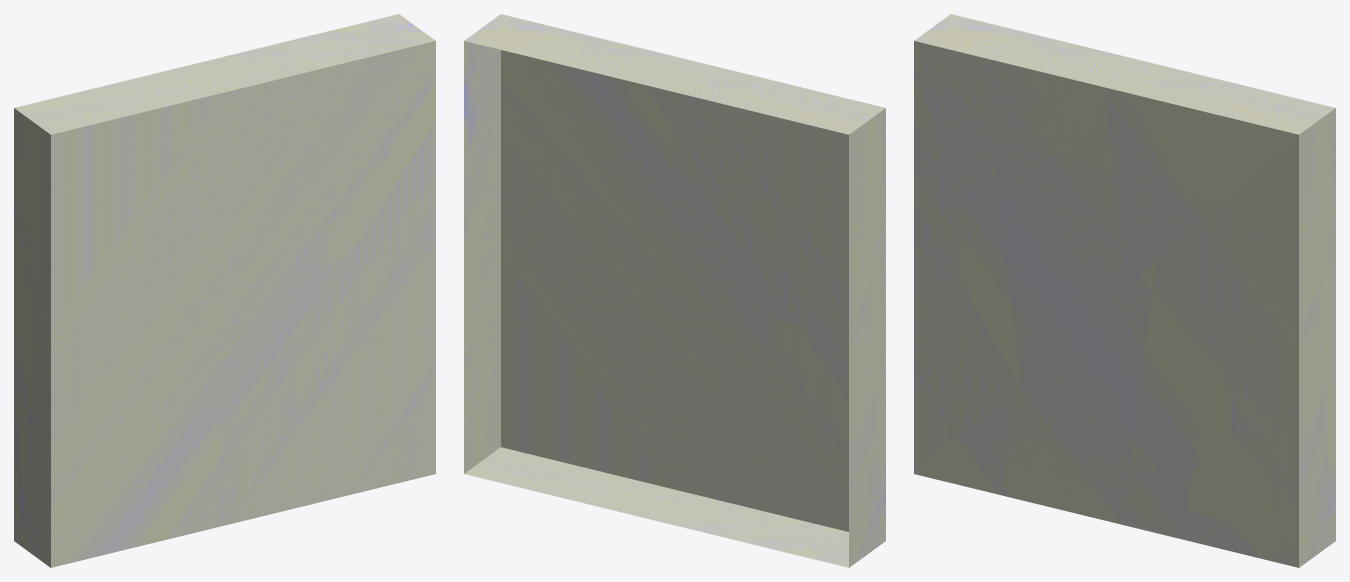
File: original-60.obj
3 views of the same model, side by side, from view 1: azimuth 30°, elevation 25°; view 2: azimuth 150°, elevation 25°; view 3: azimuth 330°, elevation 25° (orthographic).
Parts seen in each view (by area): view 1: mesh2/mesh2-geometry/material_4/component_19#mesh2-geometry; view 2: mesh2/mesh2-geometry/material_4/component_19#mesh2-geometry; view 3: mesh2/mesh2-geometry/material_4/component_19#mesh2-geometry.
Part boxes in pixels (<box>): mesh2/mesh2-geometry/material_4/component_19#mesh2-geometry: <box>14,14,435,567</box>; mesh2/mesh2-geometry/material_4/component_19#mesh2-geometry: <box>464,14,885,567</box>; mesh2/mesh2-geometry/material_4/component_19#mesh2-geometry: <box>914,14,1335,567</box>.
Size of the model in its own units: 0.0402 by 0.0432 by 0.00665.
